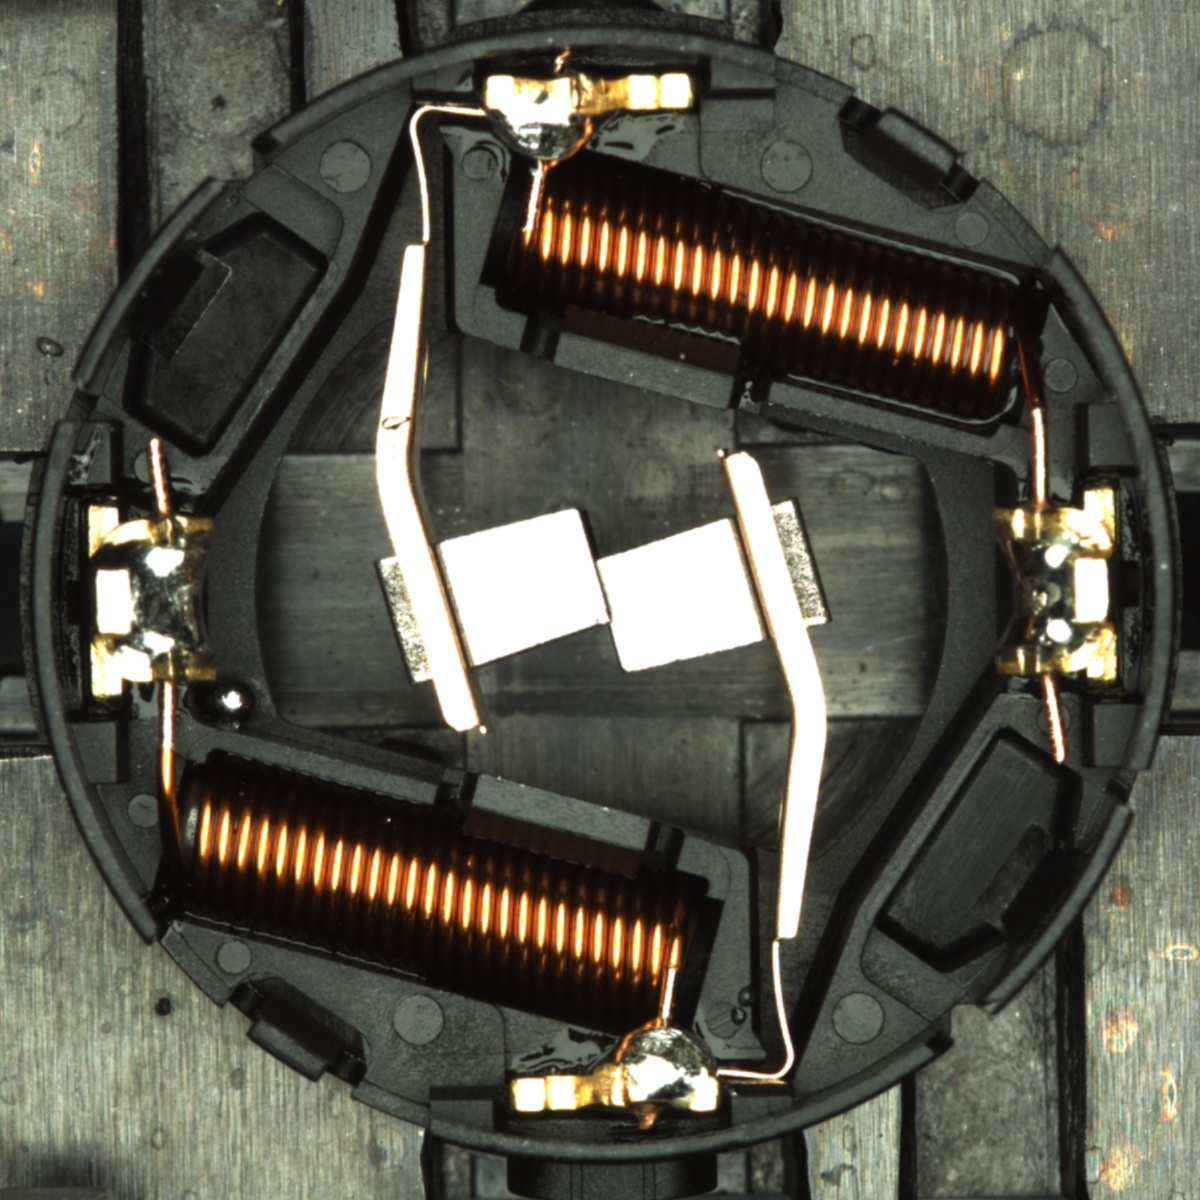1: (713, 927, 943, 1152), (255, 30, 484, 254)
2: (713, 30, 943, 254), (255, 927, 484, 1152)
3: (943, 702, 1171, 927), (25, 254, 255, 478)
4: (713, 702, 943, 927), (255, 254, 484, 478)
5: (484, 142, 713, 366), (484, 815, 713, 1040)
6: (255, 702, 484, 927), (713, 254, 943, 478)
7: (25, 702, 255, 927), (943, 254, 1171, 478)
cacbon: (393, 496, 804, 685)
chau_dien: (81, 498, 222, 700), (985, 488, 1124, 687)
hat_chi: (214, 680, 256, 722)
tay_choi: (480, 70, 698, 173), (510, 1016, 722, 1116)
thanh_de: (58, 163, 246, 405), (955, 787, 1141, 1030)
